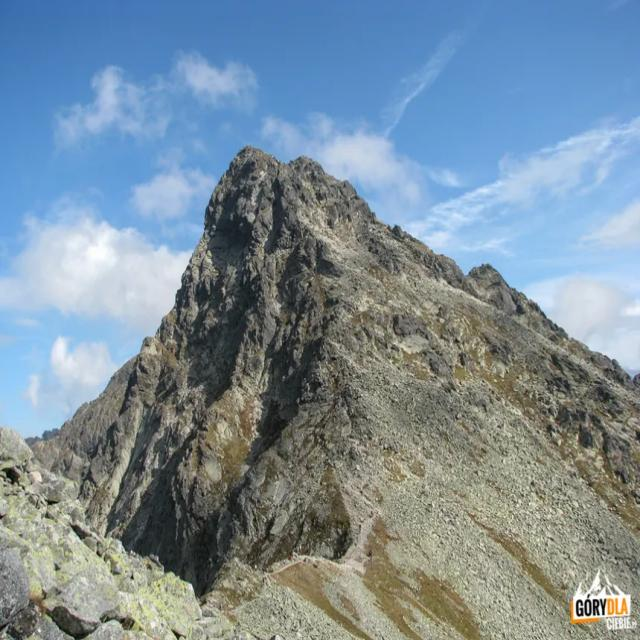Swinica: (105, 18, 397, 284)
